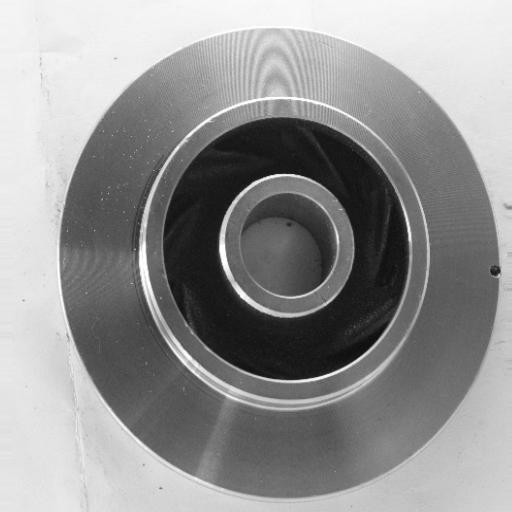pit: (483, 261, 505, 282)
unpolished_casting: (58, 28, 501, 499)
